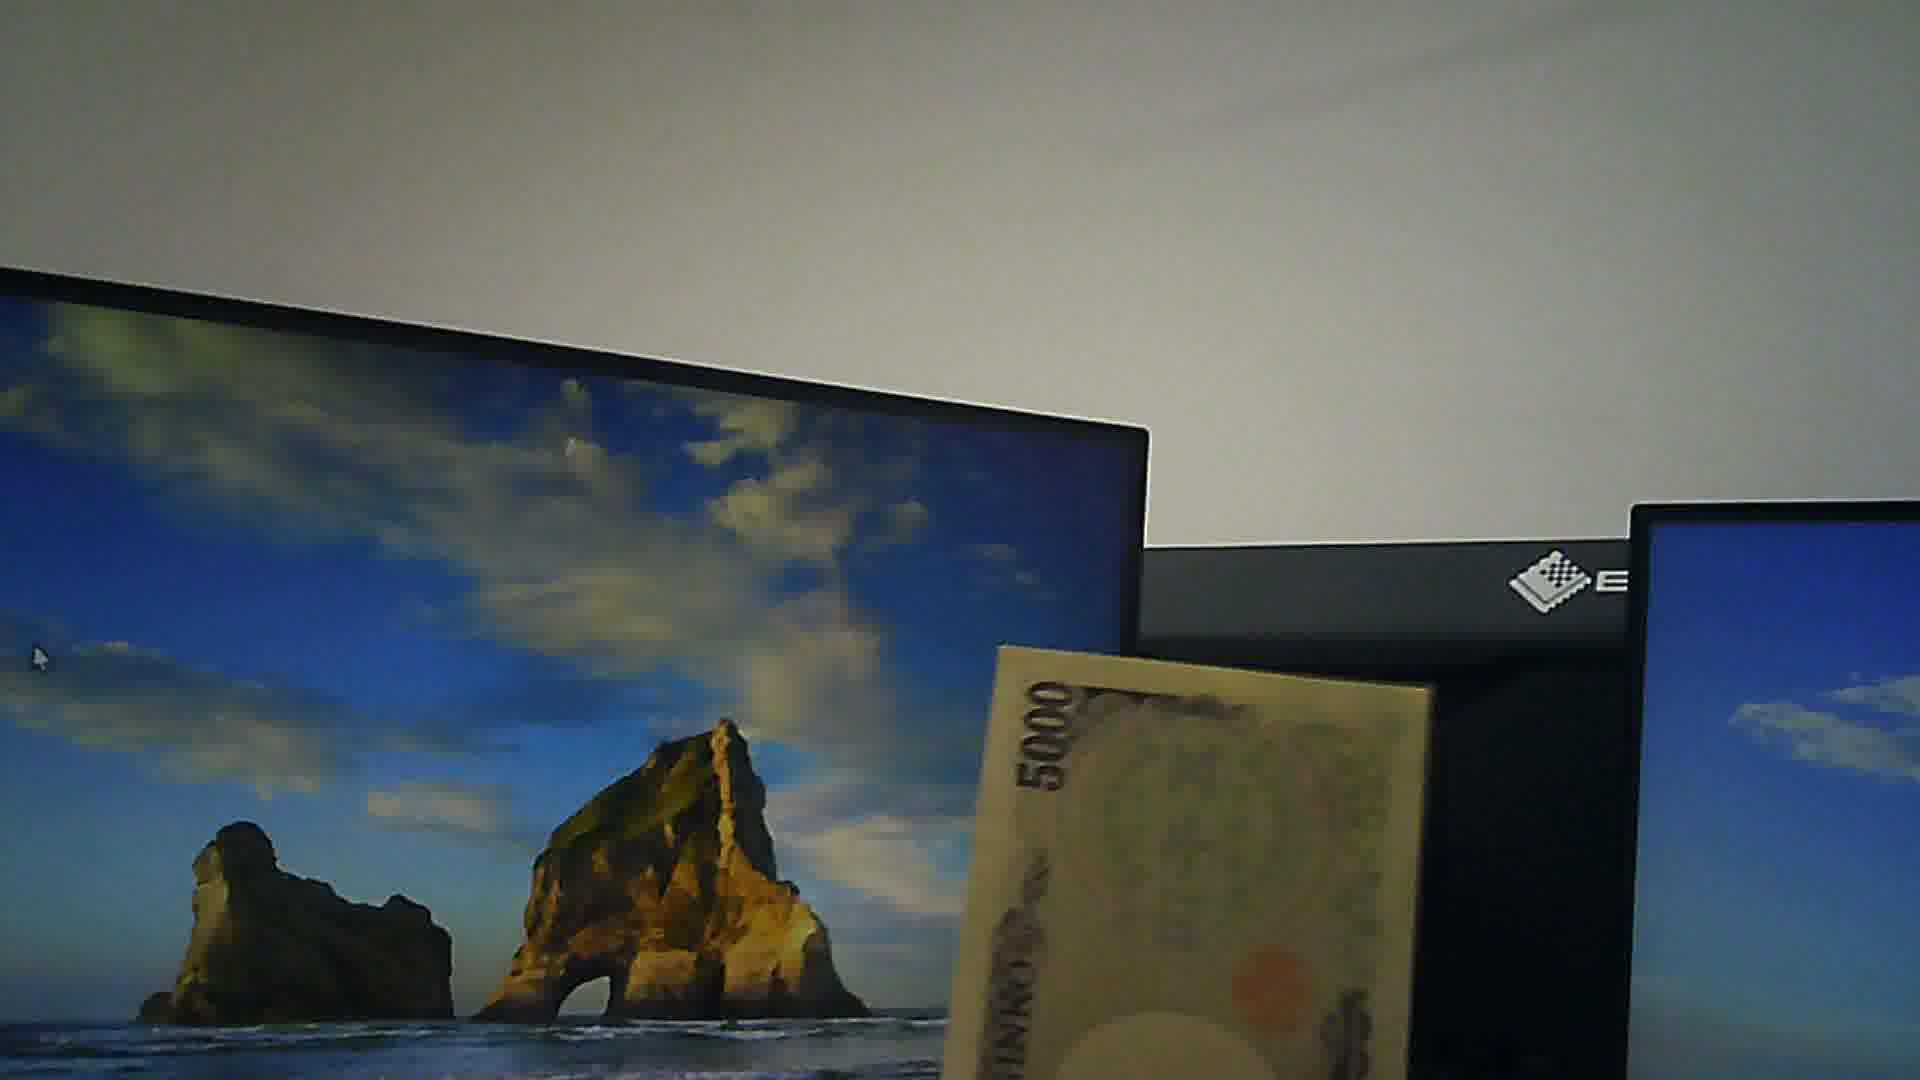5,000 Yen: (938, 641, 1472, 1073)
